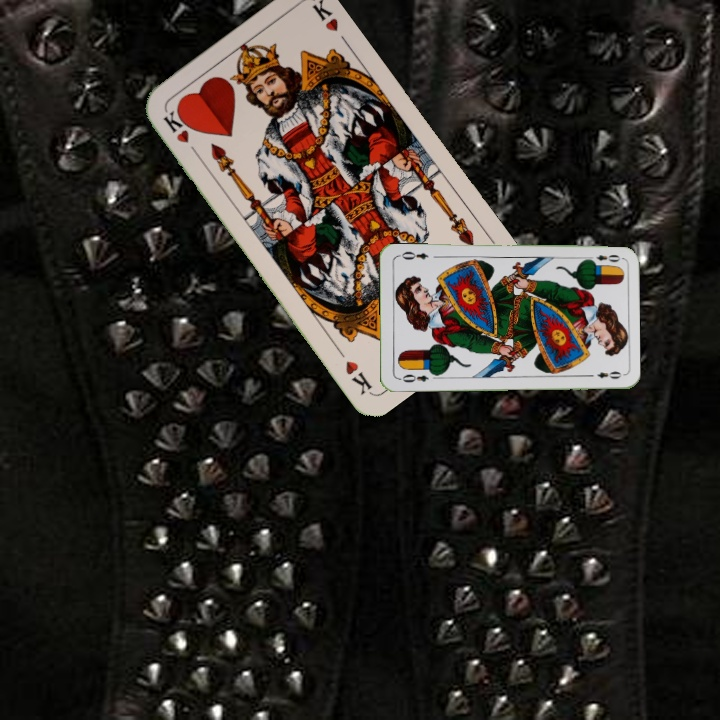EO: (583, 250, 622, 265), (395, 370, 431, 385)
HK: (159, 107, 203, 159)
